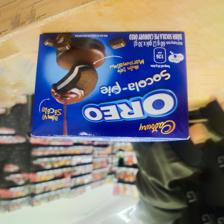Oreo: (29, 30, 192, 147)
